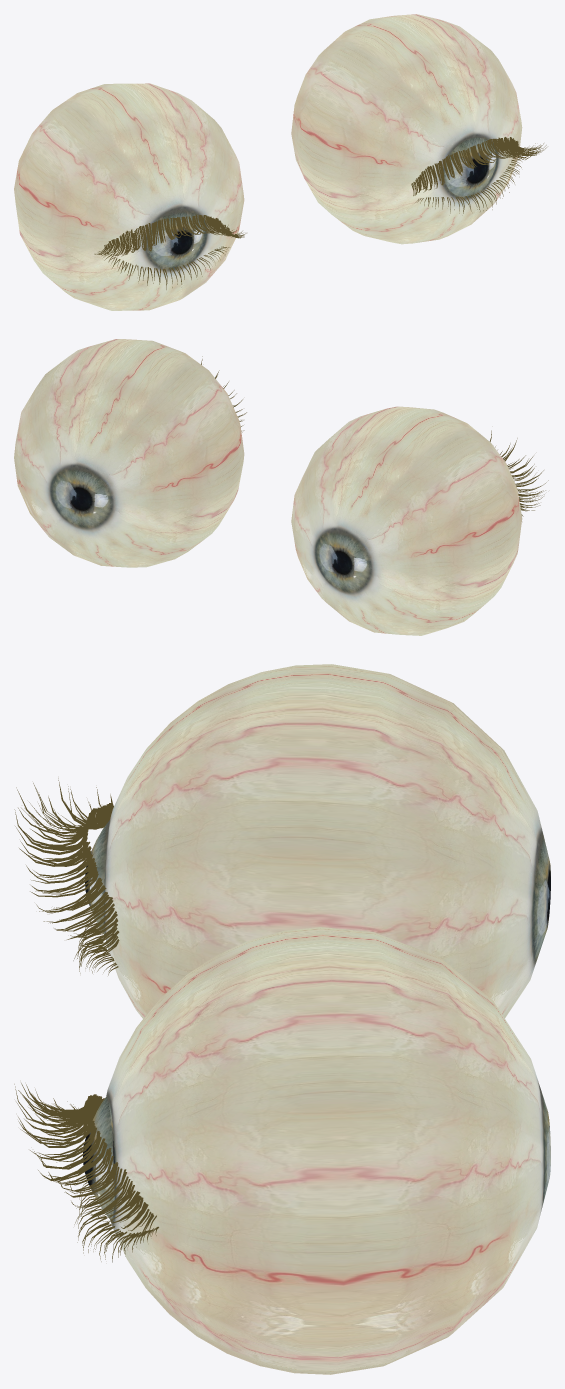
The model's file is weays.gltf.
3 views of the same model, one above another, from view 1: azimuth 30°, elevation 25°; view 2: azimuth 150°, elevation 25°; view 3: azimuth 270°, elevation 25° (orthographic). The views are drawn at different scales.
Visible parts, largest first — view 1: wEays; view 2: wEays; view 3: wEays.
Part boxes in pixels (x1=…): wEays: x1=14, y1=14, x2=546, y2=310; wEays: x1=14, y1=339, x2=548, y2=635; wEays: x1=14, y1=664, x2=550, y2=1374.
Bounding box in the file's own units: 9.94 × 4.17 × 4.97.
Materials: 3 (2 with a texture image).
